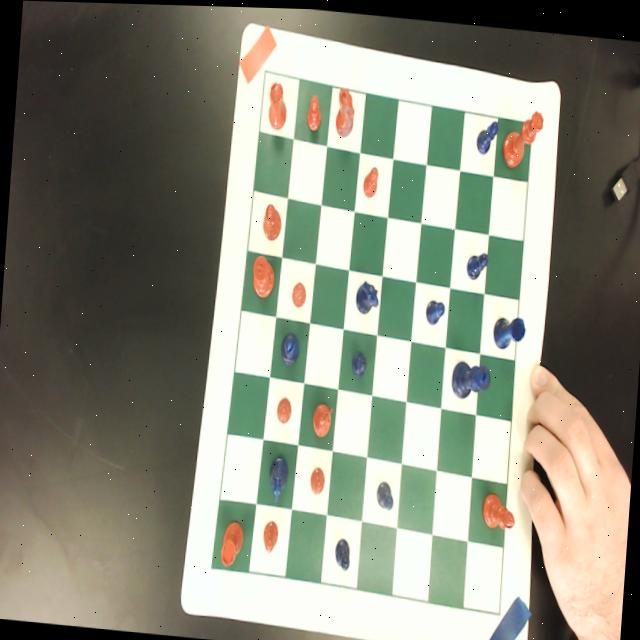B: (278, 328, 299, 364)
K: (448, 356, 489, 398)
N: (266, 451, 288, 502), (353, 278, 379, 312)
P: (473, 114, 498, 152), (464, 243, 488, 280), (332, 534, 350, 570), (423, 295, 445, 323), (374, 477, 394, 507), (349, 346, 367, 376)
R: (491, 310, 525, 349)
b: (479, 486, 515, 529), (260, 200, 282, 239)
k: (250, 251, 275, 299)
n: (332, 82, 357, 135), (308, 396, 333, 436)
p: (304, 89, 322, 130), (260, 518, 278, 551), (361, 162, 378, 194), (307, 463, 325, 491), (274, 394, 290, 420), (290, 279, 306, 304)
q: (500, 103, 542, 168)
r: (218, 516, 245, 566), (265, 76, 288, 130)
